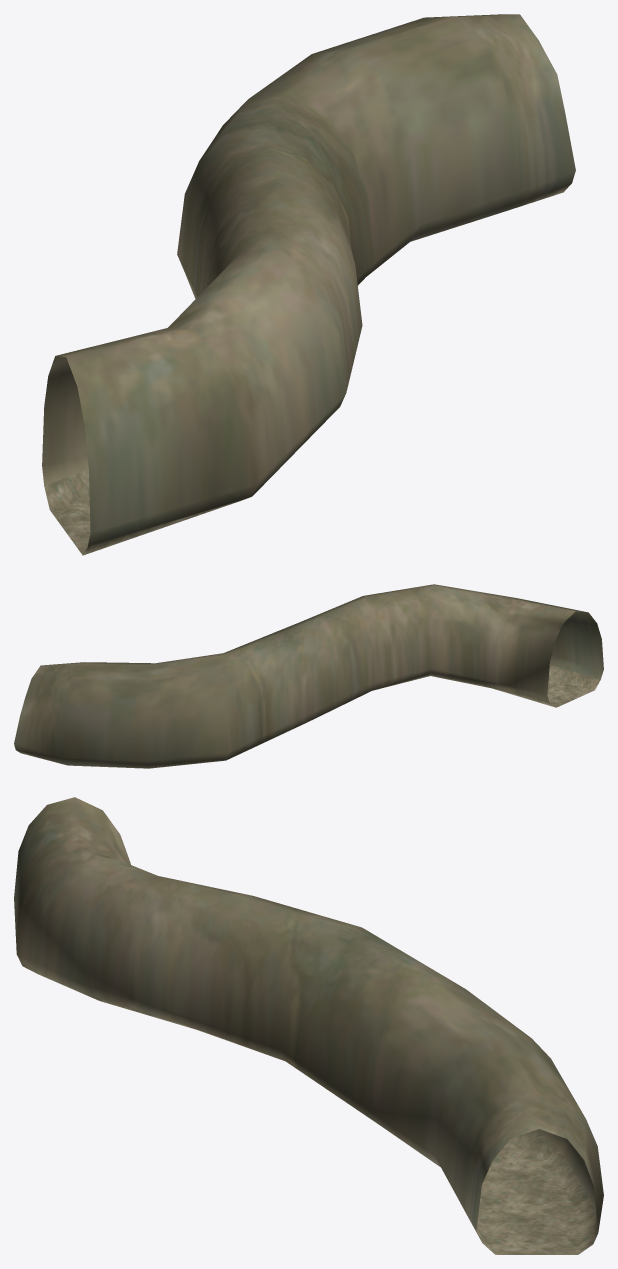
The model's file is OVERHILL_A_01_CM_TUNNEL_07.fbx.
The picture shows the model from 3 angles, top to bottom: view 1: azimuth 30°, elevation 25°; view 2: azimuth 150°, elevation 25°; view 3: azimuth 270°, elevation 25°; orthographic projection. The views are drawn at different scales.
Visible parts, largest first — view 1: OVERHILL_A_01_CM_TUNNEL_07; view 2: OVERHILL_A_01_CM_TUNNEL_07; view 3: OVERHILL_A_01_CM_TUNNEL_07.
Boxes of the visible parts, x1,y1,x2,y2 form: OVERHILL_A_01_CM_TUNNEL_07: (42,14,575,555); OVERHILL_A_01_CM_TUNNEL_07: (14,584,603,768); OVERHILL_A_01_CM_TUNNEL_07: (14,797,603,1254).
Bounding box in the file's own units: 155764 × 48277 × 133287.
Materials: 1 (1 with a texture image).
